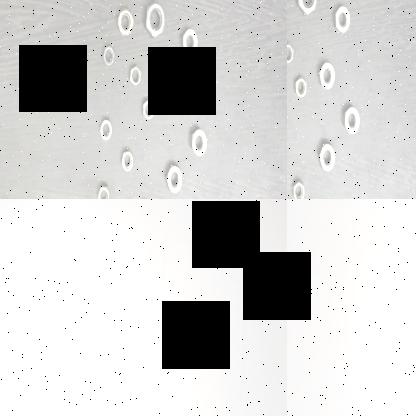NUTS: (142, 0, 166, 40), (332, 0, 354, 38), (318, 136, 338, 176), (114, 3, 136, 39), (318, 55, 338, 93), (165, 80, 186, 115), (190, 122, 209, 160), (343, 105, 363, 136), (166, 162, 184, 196), (180, 26, 198, 58), (290, 171, 308, 199), (291, 74, 309, 98), (101, 43, 117, 69), (295, 0, 319, 17), (142, 97, 158, 122), (98, 116, 112, 144), (122, 150, 136, 176), (127, 65, 142, 88), (96, 184, 114, 199), (287, 40, 296, 66)
